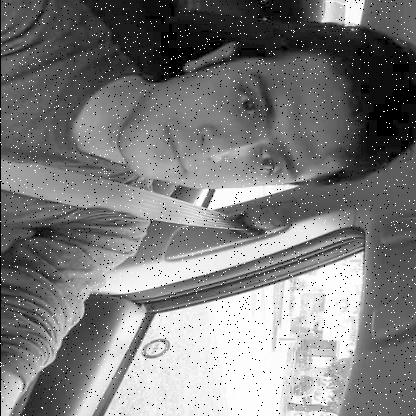seatbelt: (0, 17, 416, 260)
